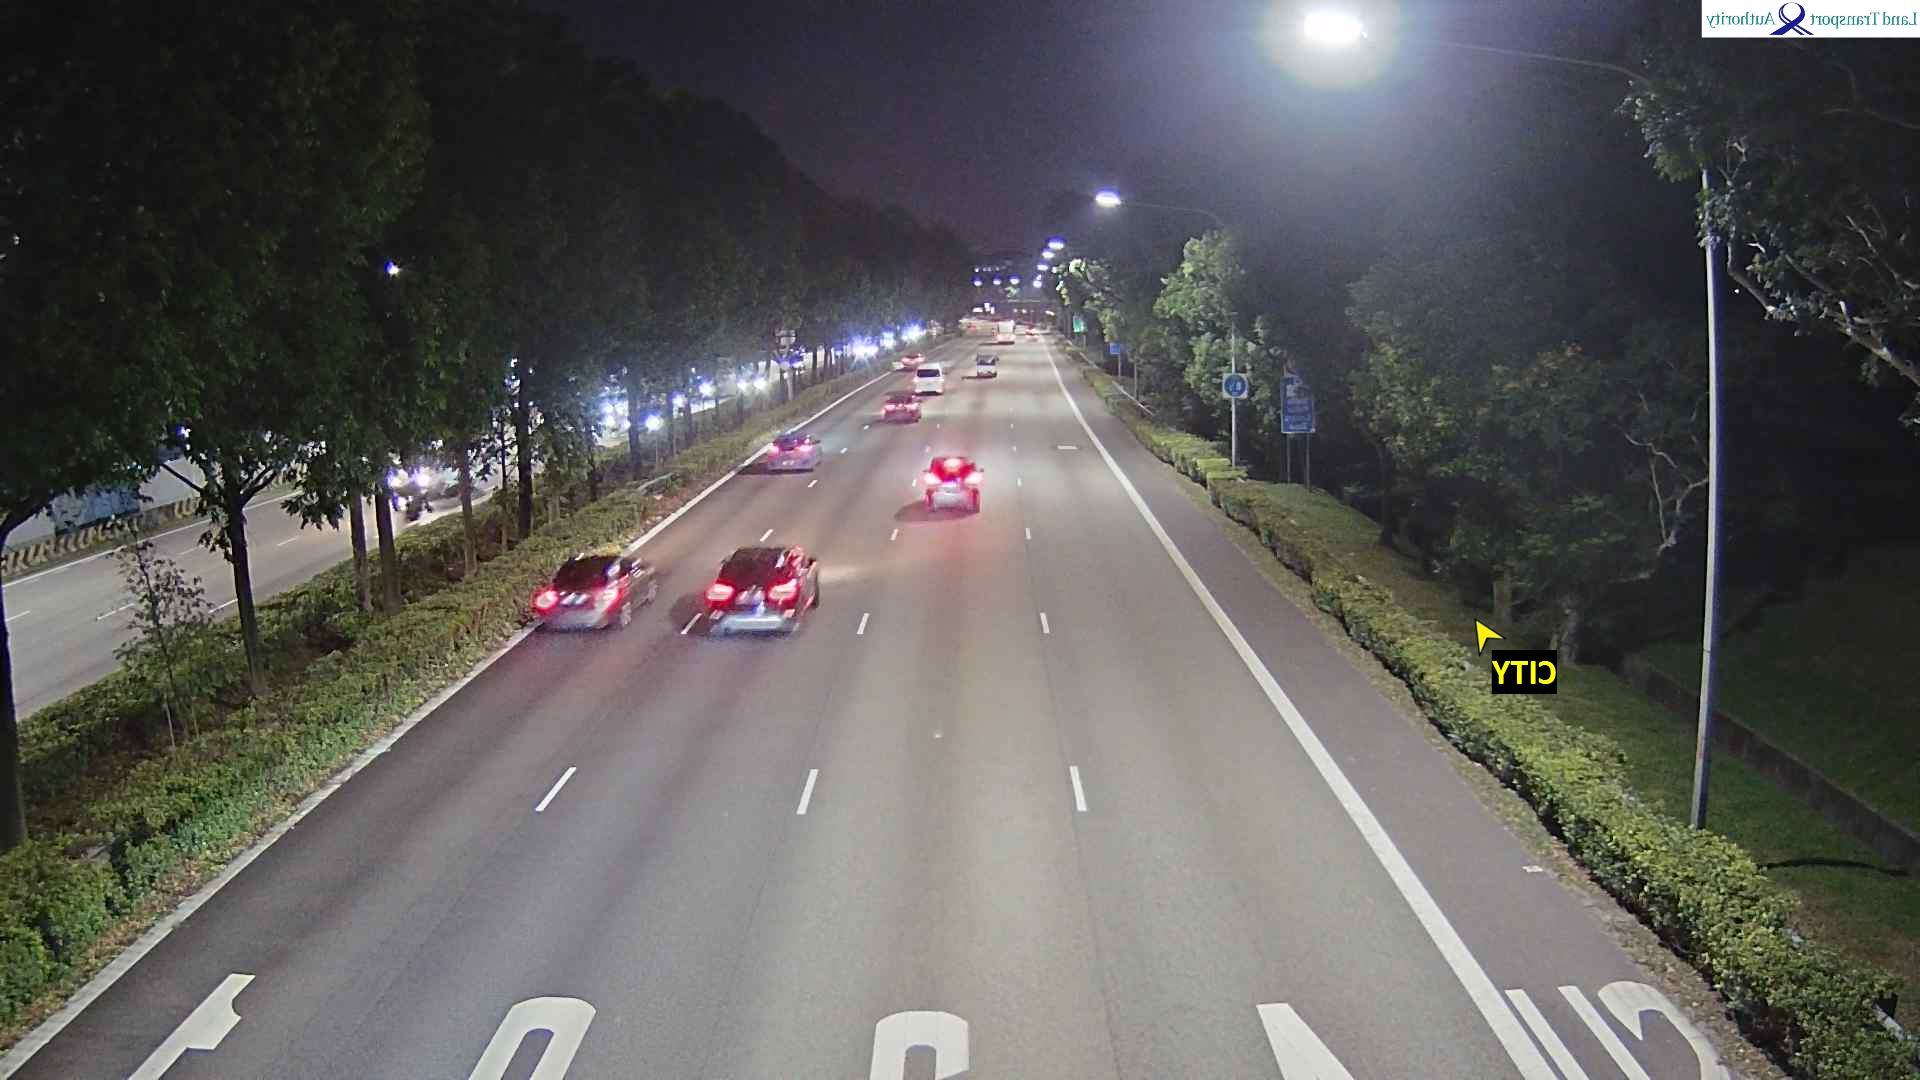bus: (997, 319, 1017, 343)
cars: (704, 542, 822, 637), (531, 549, 659, 632), (920, 454, 986, 513), (767, 431, 823, 472), (882, 390, 923, 422), (913, 361, 945, 396), (895, 349, 926, 371)
trucks: (975, 353, 1000, 378)
